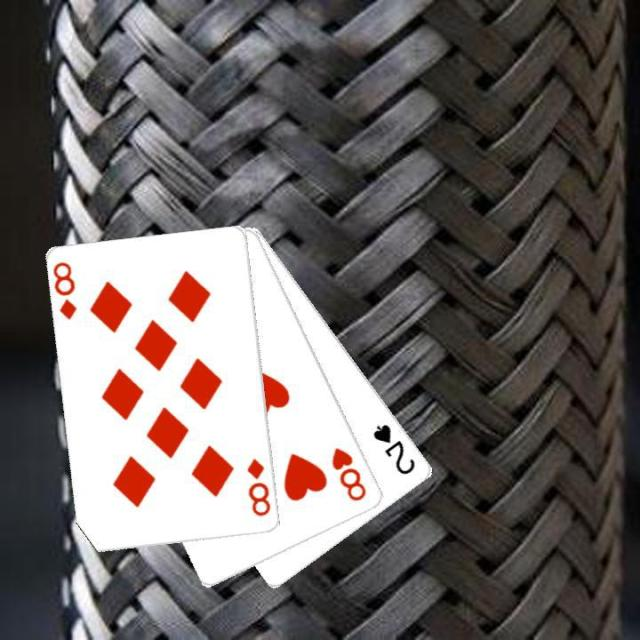2S: (369, 421, 418, 476)
8D: (243, 454, 273, 518), (51, 258, 79, 322)
8H: (328, 443, 369, 503)
